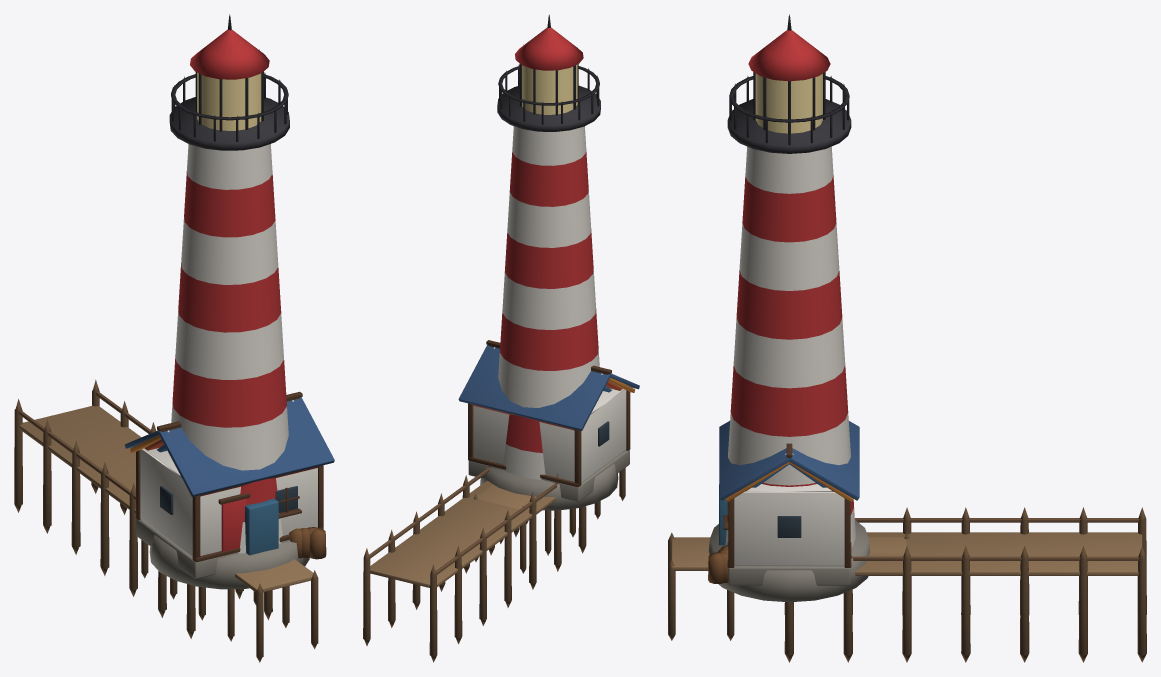
File: gulls.glb
3 renders of one model, left to right at view 1: azimuth 30°, elevation 25°; view 2: azimuth 150°, elevation 25°; view 3: azimuth 270°, elevation 25°, orthographic. The views are drawn at different scales.
Parts seen in each view (by area): view 1: lighthouse, keeperhouse, dock, boardwalk, cottageA; view 2: lighthouse, dock, keeperhouse, boardwalk; view 3: lighthouse, dock, keeperhouse, boardwalk, cottageC.
Part boxes in pixels (left/top/right/bottom): lighthouse: left=149, top=14, right=309, bottom=589; keeperhouse: left=125, top=391, right=334, bottom=578; dock: left=14, top=379, right=272, bottom=638; boardwalk: left=141, top=540, right=318, bottom=662; cottageA: left=144, top=439, right=318, bottom=558; lighthouse: left=480, top=14, right=618, bottom=510; dock: left=363, top=457, right=586, bottom=662; keeperhouse: left=458, top=340, right=639, bottom=501; boardwalk: left=474, top=468, right=625, bottom=573; lighthouse: left=708, top=14, right=870, bottom=602; dock: left=784, top=507, right=1146, bottom=662; keeperhouse: left=708, top=421, right=859, bottom=585; boardwalk: left=668, top=532, right=909, bottom=640; cottageC: left=716, top=457, right=853, bottom=582.
Bounding box in the file's own units: 5.76 × 23.63 × 16.29.
